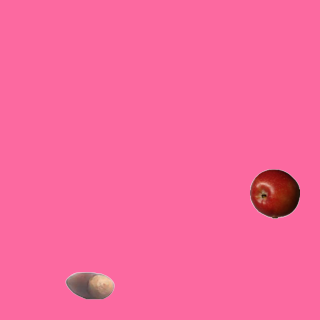Apple Braeburn: (249, 168, 299, 218)
Hazelnut: (64, 260, 114, 310)
